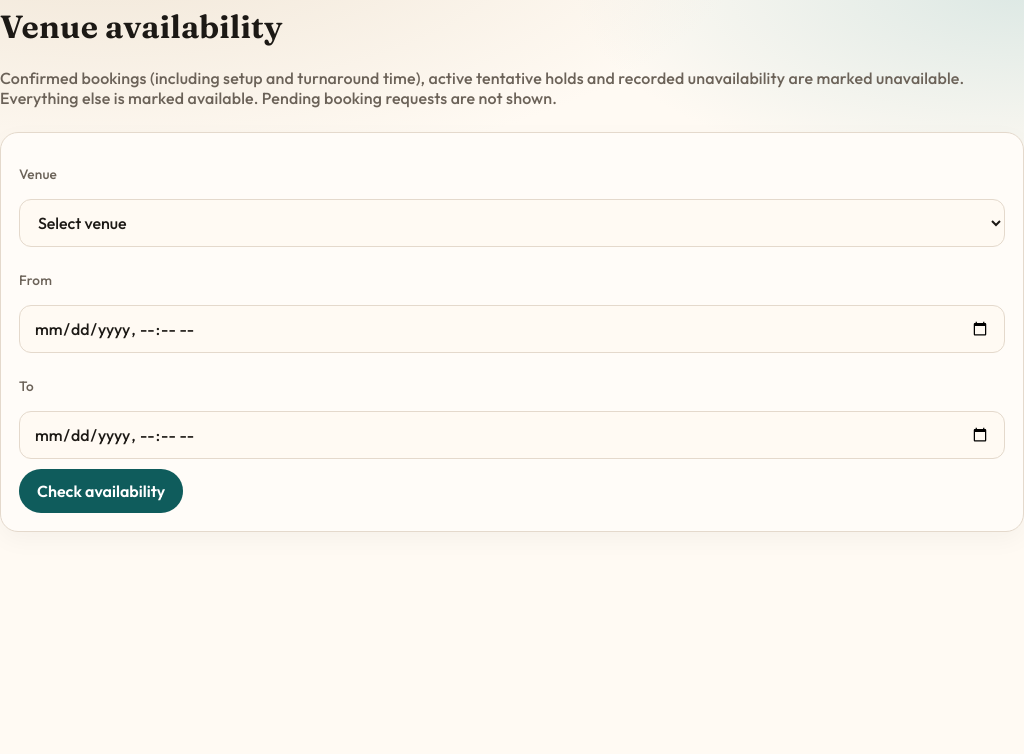
Test: SCRUM-66 VenueAvailability page › US66-F01: requests the chosen range and shows available and unavailable periods with reasons
Select "Helix Hall" in the dropdown labelled "Venue". click: point(512, 223)
box: [19,199,1005,247]
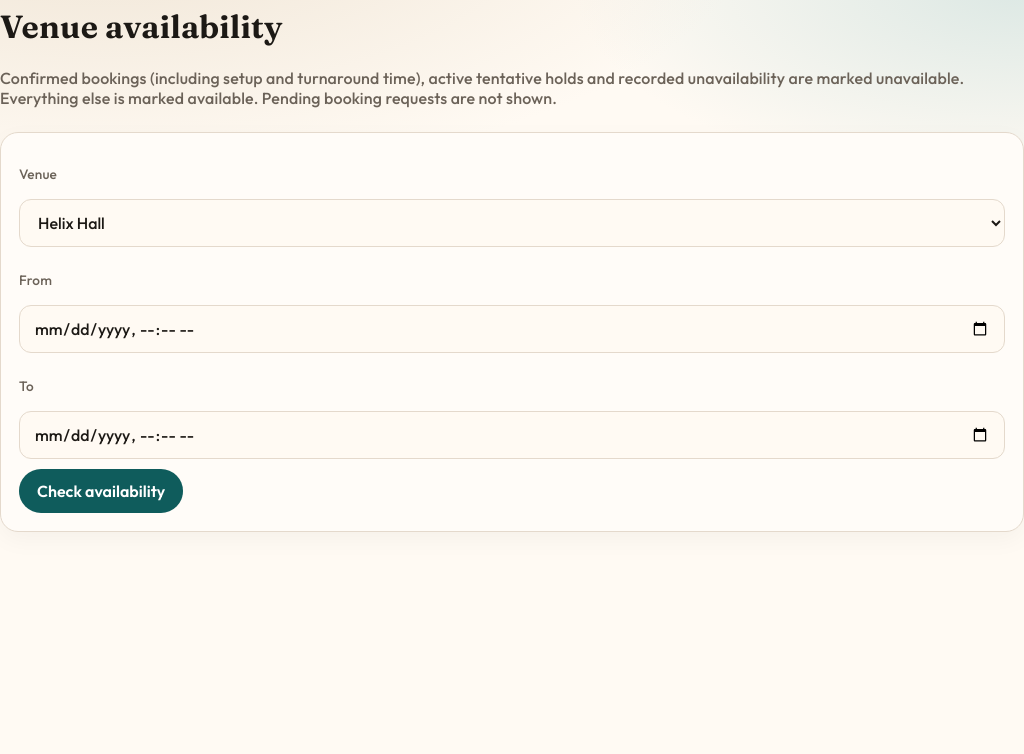
Type "2026-10-20T08:00" into the field labelled "From". click: point(512, 329)
box: [19,305,1005,353]
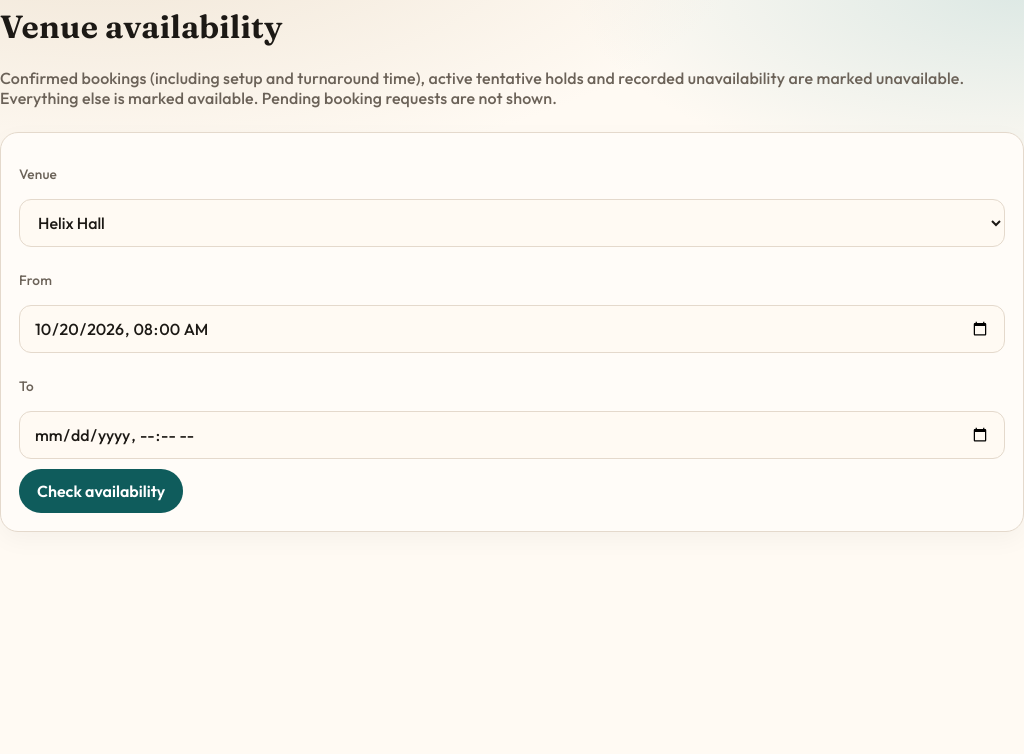
Type "2026-10-20T14:00" into the field labelled "To". click: point(512, 435)
box: [19,411,1005,459]
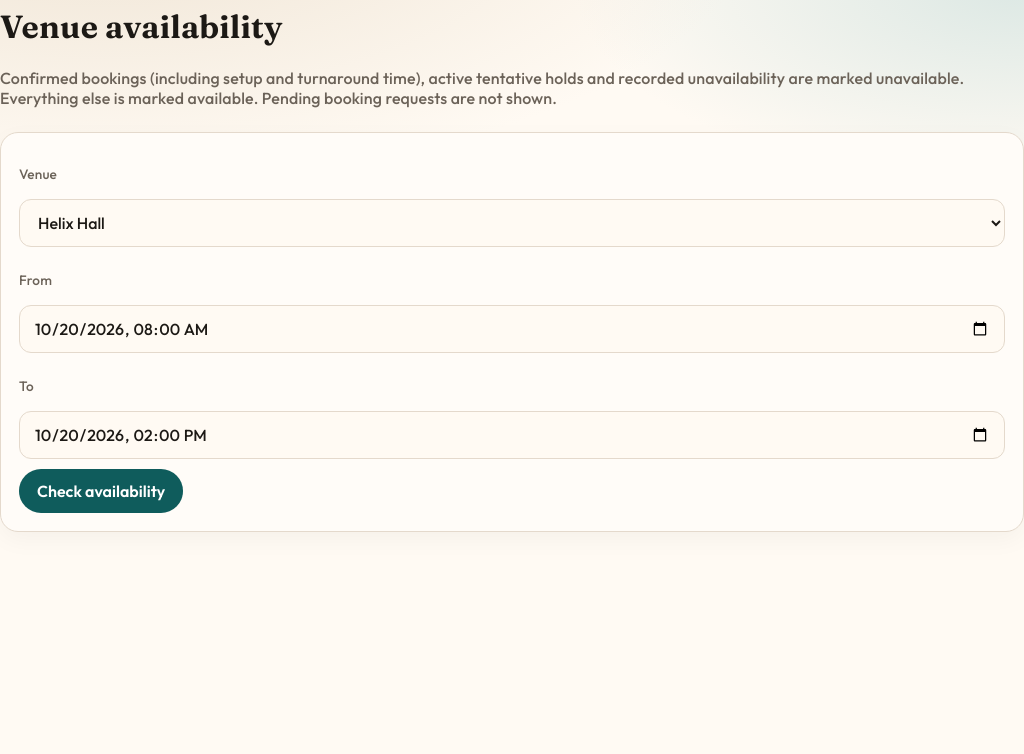
Click the button "Check availability". click: point(101, 491)
box: [19,469,183,513]
(page scrolled)
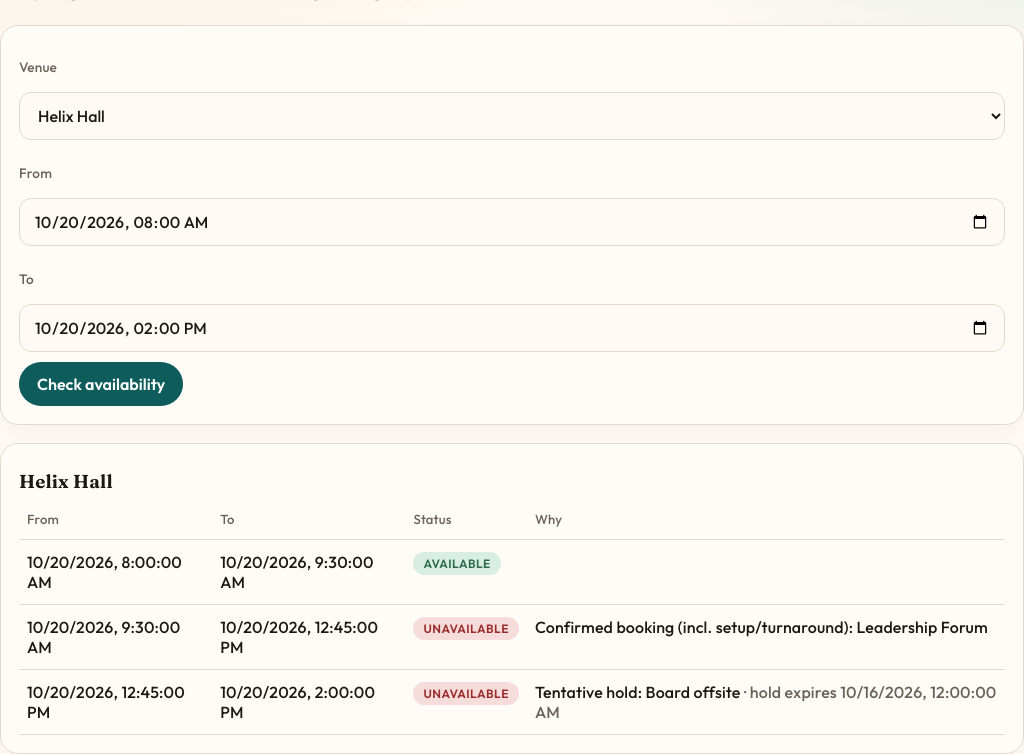
Now the heading "Helix Hall" is shown, box [19,470,113,493]
Now the text "Available" is shown once, box [414,552,501,575]
Now the text "Unavailable" is shown 2 times, box [414,617,519,640]; [414,682,519,705]
